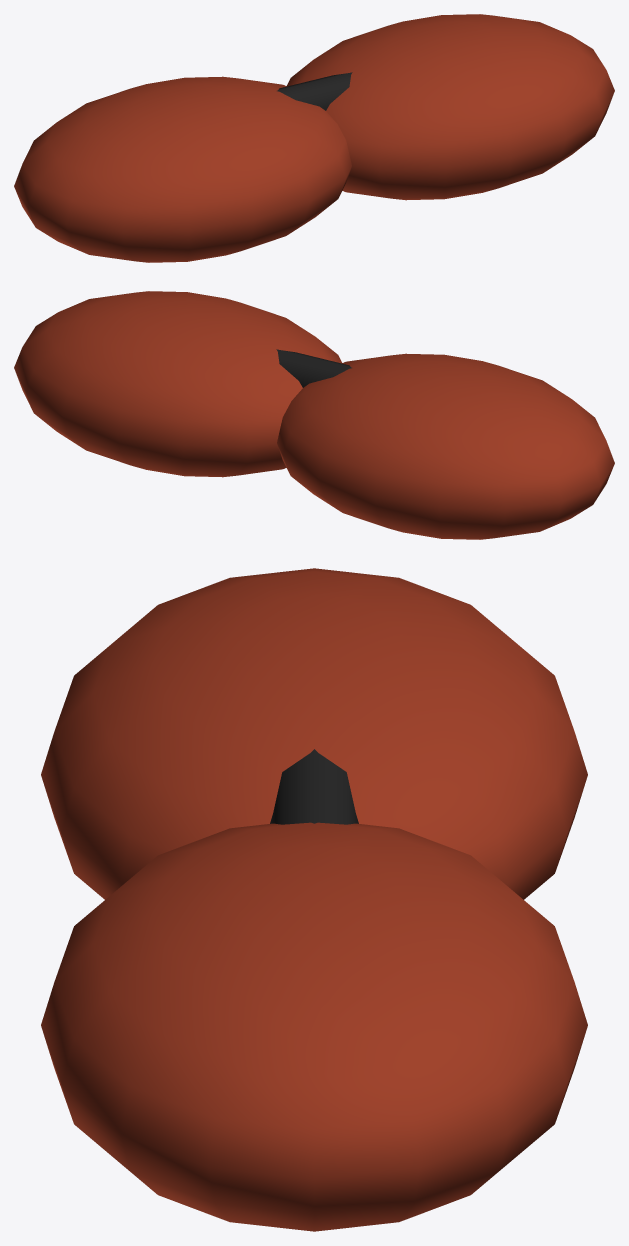
The model's file is sacco-sabbia.glb.
3 renders of one model, top to bottom at view 1: azimuth 30°, elevation 25°; view 2: azimuth 150°, elevation 25°; view 3: azimuth 270°, elevation 25°, orthographic. The views are drawn at different scales.
Size of the model in its own units: 0.58 by 0.1344 by 0.24.
